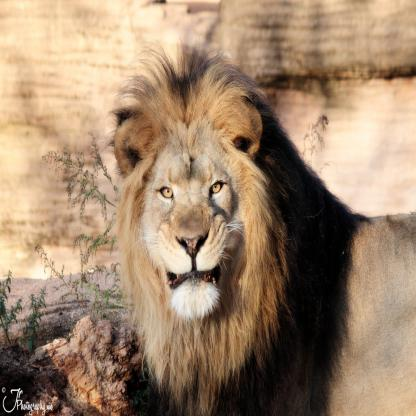lion: (106, 68, 269, 350)
